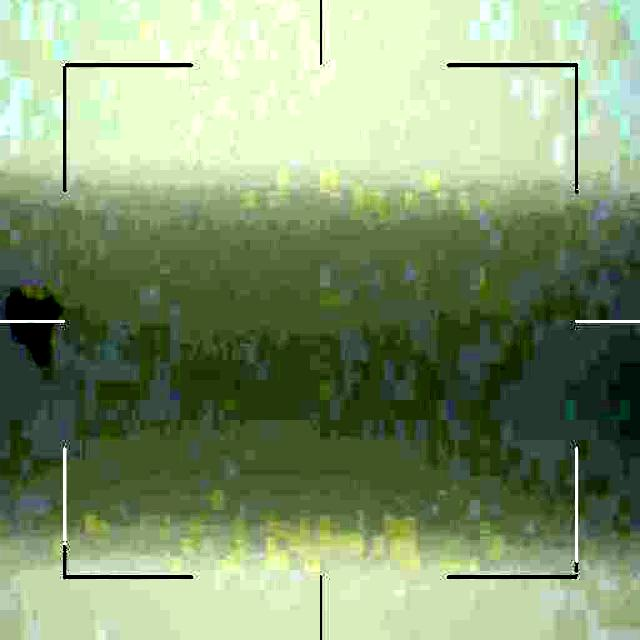bird: (0, 285, 61, 360)
